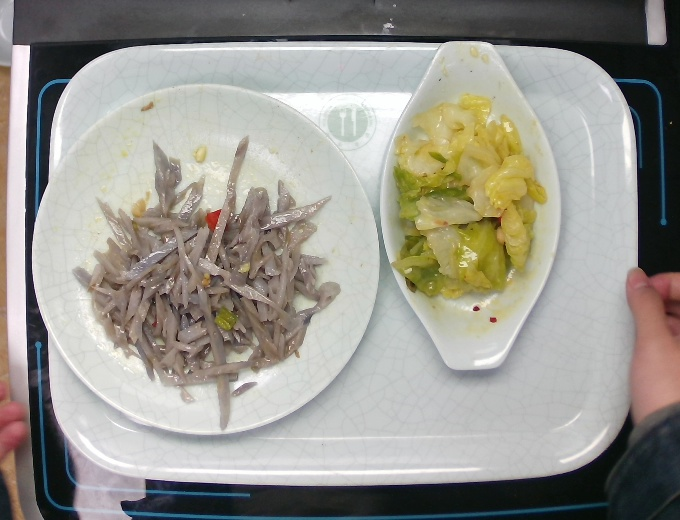JYsf-Da_Yuan_Pan: (30, 82, 384, 435)
JYsf-Yu_Pan: (379, 38, 564, 378)
